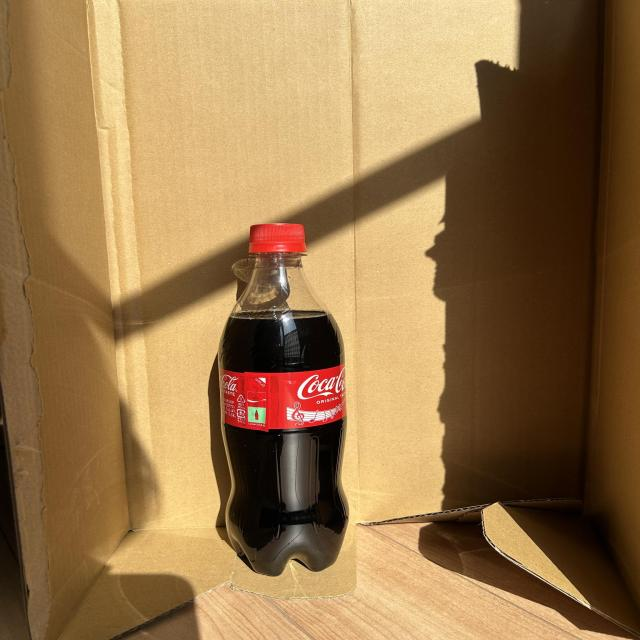high: (219, 223, 349, 575)
